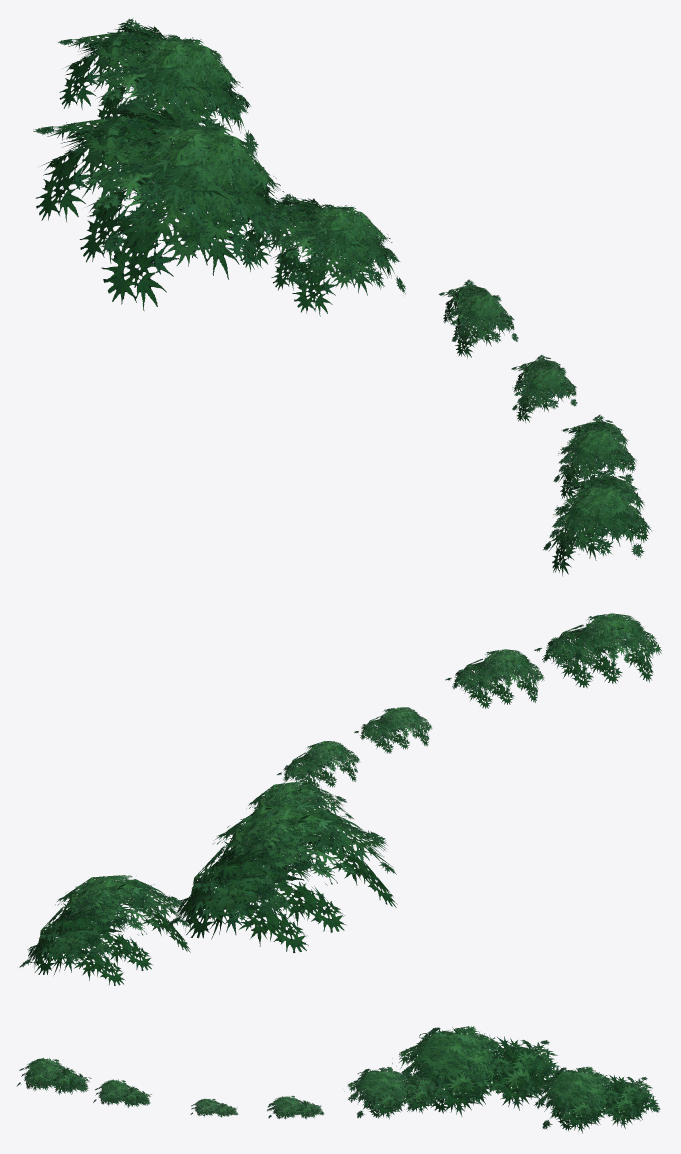
Rendered from Area_08_9.fbx.
3 views of the same model, one above another, from view 1: azimuth 30°, elevation 25°; view 2: azimuth 150°, elevation 25°; view 3: azimuth 270°, elevation 25° (orthographic). The views are drawn at different scales.
Parts seen in each view (by area): view 1: Area_08_9; view 2: Area_08_9; view 3: Area_08_9.
Part boxes in pixels (x1,y1,x2,y2): Area_08_9: [33, 18, 651, 575]; Area_08_9: [19, 613, 661, 985]; Area_08_9: [16, 1026, 660, 1133].
Size of the model in its own units: 1212 by 623 by 4658.
